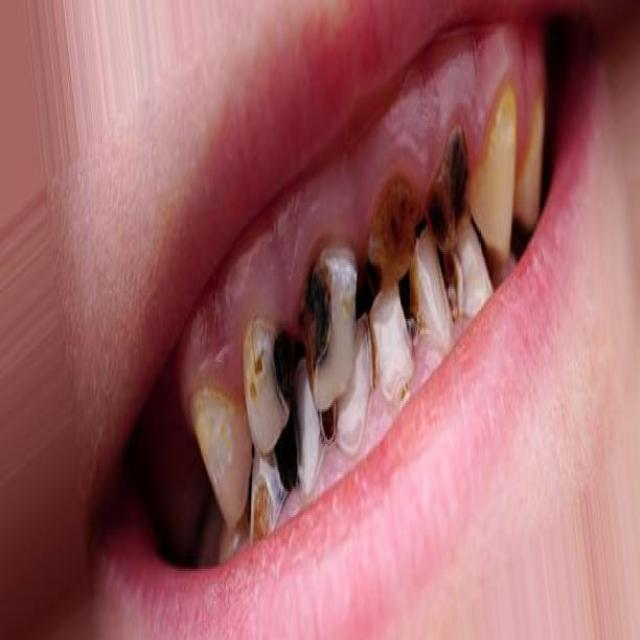caries: (299, 241, 351, 391), (366, 171, 418, 285), (423, 116, 467, 246), (255, 315, 295, 419), (270, 406, 302, 492), (246, 470, 281, 548), (436, 250, 468, 321), (397, 277, 428, 346), (310, 386, 346, 439)
